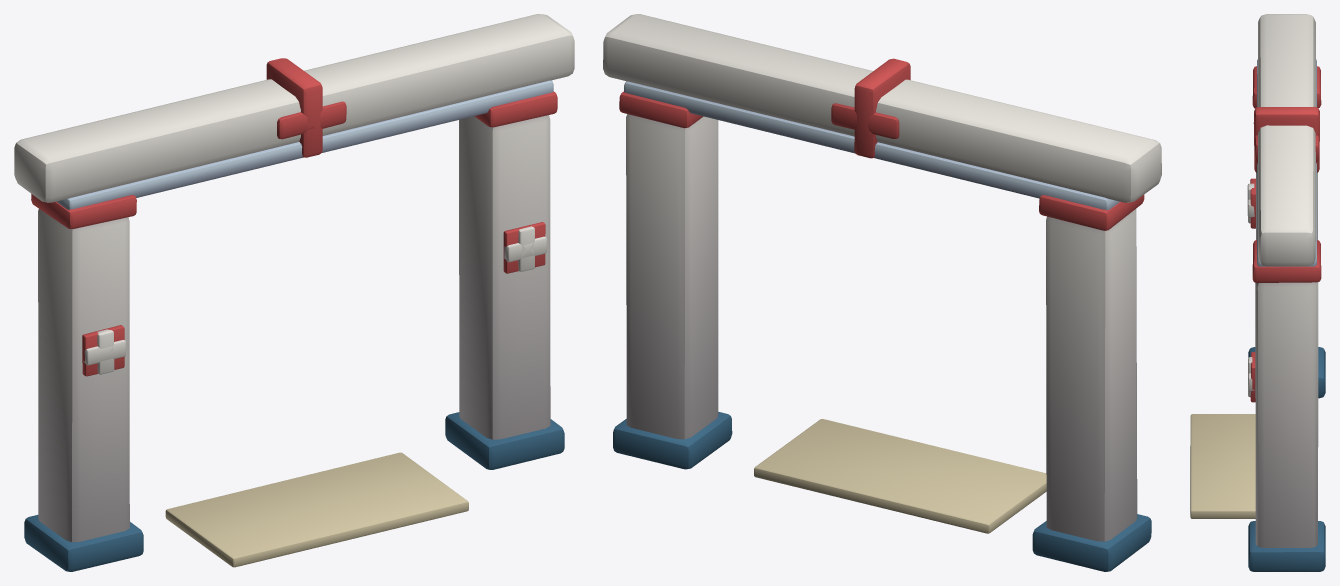
3 views of the same model, side by side, from view 1: azimuth 30°, elevation 25°; view 2: azimuth 150°, elevation 25°; view 3: azimuth 270°, elevation 25° (orthographic). The views are drawn at different scales.
Parts seen in each view (by area): view 1: gate_04514e2a; view 2: gate_04514e2a; view 3: gate_04514e2a.
Part boxes in pixels (box(x1,y1,x2,y2)): gate_04514e2a: box(14, 14, 574, 571); gate_04514e2a: box(603, 14, 1161, 571); gate_04514e2a: box(1190, 14, 1325, 571).
Size of the model in its own units: 5.41 by 4.14 by 1.4.
